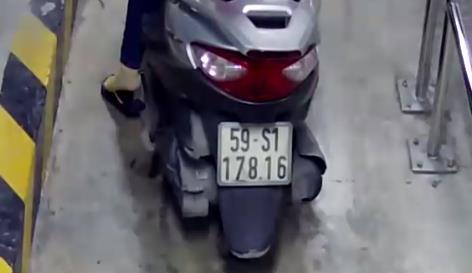lisence: (215, 121, 294, 185)
